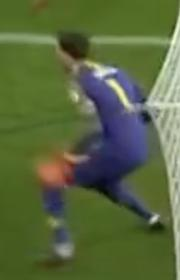goalkeeper: (16, 15, 180, 280)
